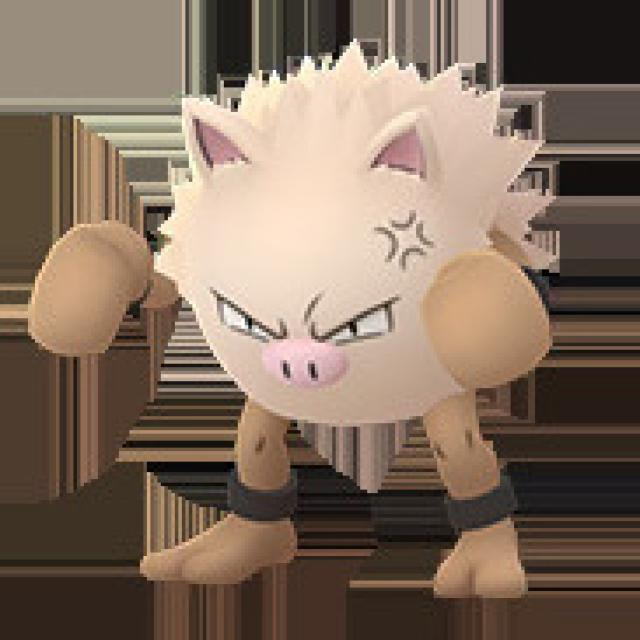Primeape: (137, 62, 545, 534)
